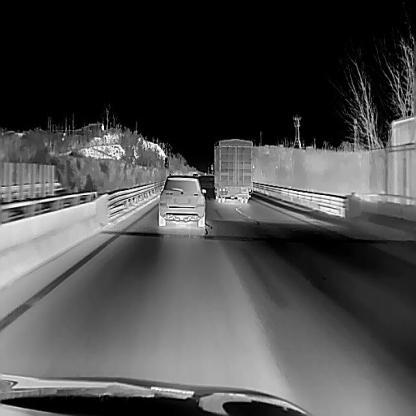car: (211, 138, 252, 203), (157, 173, 206, 227)
